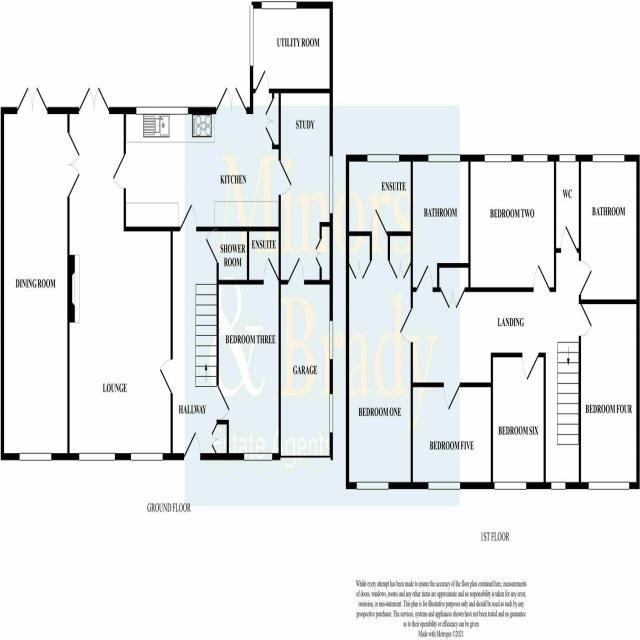DOOR: (286, 253, 306, 286), (216, 382, 232, 422), (158, 355, 173, 397), (111, 149, 126, 191), (559, 222, 579, 253), (579, 257, 594, 298), (398, 303, 413, 344), (415, 261, 434, 293), (179, 200, 198, 232), (443, 382, 461, 415), (532, 263, 552, 292), (521, 352, 539, 384), (279, 157, 293, 198), (370, 205, 388, 236), (579, 302, 594, 338), (262, 255, 280, 282)
DOUBLE DOOR: (74, 81, 111, 116), (66, 129, 81, 201)
ROOM: (67, 84, 173, 462), (1, 86, 81, 462), (112, 68, 293, 232), (345, 205, 413, 489), (217, 255, 281, 461), (468, 153, 557, 293), (579, 298, 640, 490), (410, 381, 493, 491), (490, 352, 546, 490)
WINDOW: (135, 105, 190, 116), (588, 480, 630, 491), (365, 152, 400, 165), (76, 452, 116, 463), (354, 480, 389, 492), (248, 0, 254, 69), (426, 153, 461, 164), (493, 480, 528, 491), (18, 452, 52, 463), (427, 481, 461, 492), (242, 450, 273, 462), (592, 152, 625, 163), (129, 452, 164, 462), (484, 153, 513, 164), (329, 153, 334, 216), (328, 390, 334, 437), (522, 153, 549, 163), (328, 318, 334, 362), (549, 480, 567, 491), (558, 153, 577, 163)
